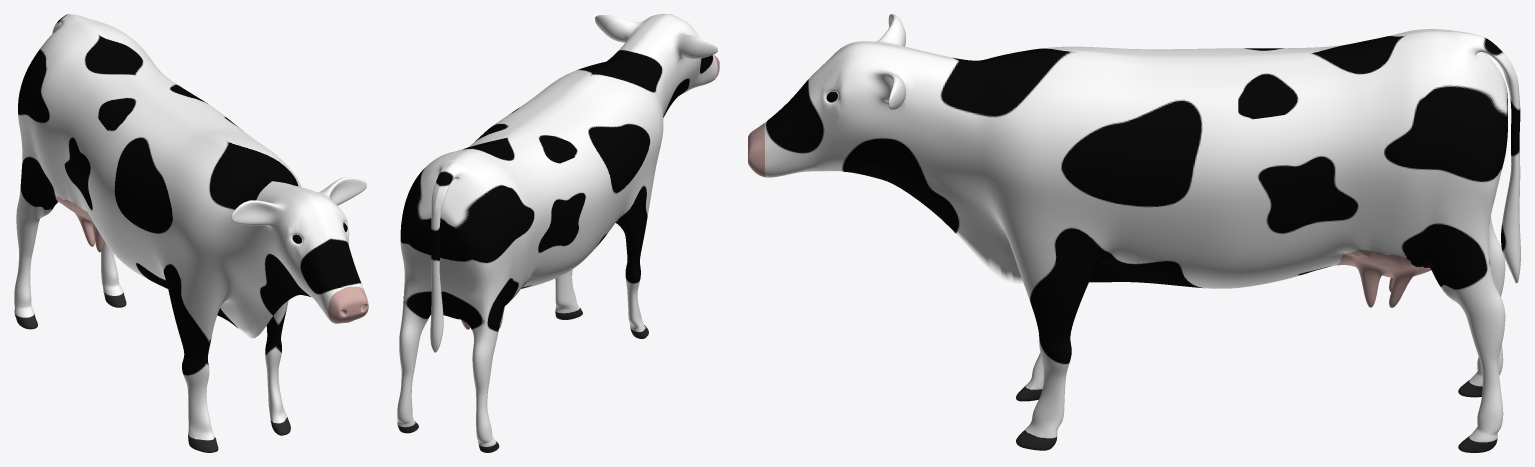
File: cow.fbx
3 renders of one model, left to right at view 1: azimuth 30°, elevation 25°; view 2: azimuth 150°, elevation 25°; view 3: azimuth 270°, elevation 25°, orthographic. The views are drawn at different scales.
Visible parts, largest first — view 1: cow; view 2: cow; view 3: cow.
Boxes of the visible parts, x1,y1,x2,y2 form: cow: [14, 14, 368, 452]; cow: [397, 14, 719, 452]; cow: [748, 14, 1520, 452].
Bounding box in the file's own units: 131 × 277 × 498.
Materials: 3 (1 with a texture image).
